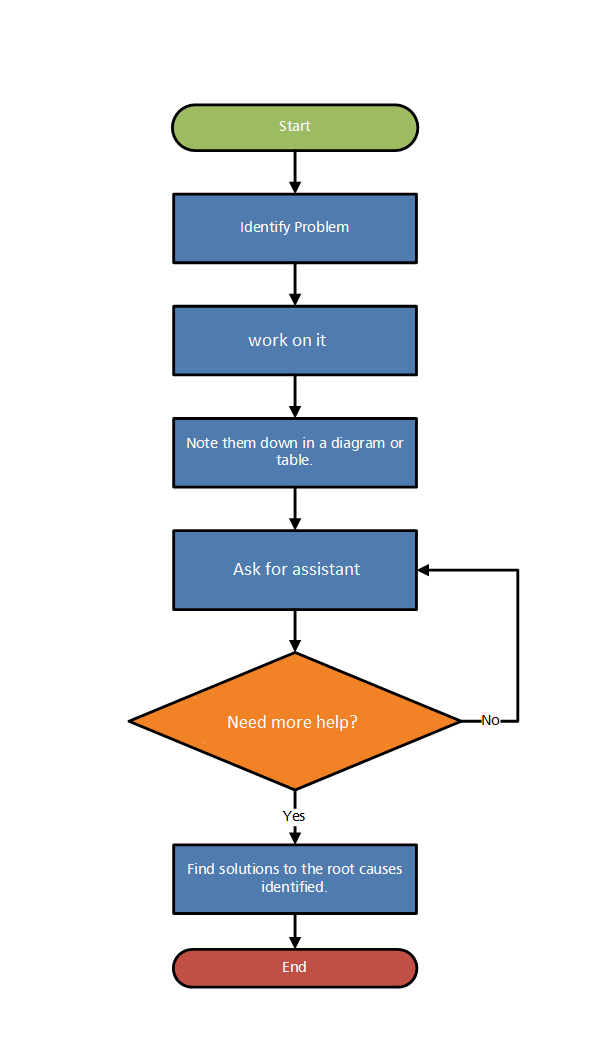arrow: (413, 561, 525, 728), (285, 787, 304, 845), (286, 483, 306, 534), (285, 258, 304, 309), (286, 147, 306, 195), (286, 603, 304, 653), (285, 910, 307, 949), (286, 372, 302, 420)
decision: (121, 650, 466, 791)
process: (167, 525, 423, 617), (167, 188, 423, 268), (167, 301, 426, 380), (167, 839, 421, 918), (167, 414, 421, 491)
terminator: (169, 99, 423, 156), (166, 945, 421, 993)
text: (183, 858, 407, 896), (182, 434, 409, 469), (225, 710, 359, 734), (226, 558, 363, 580), (239, 217, 348, 234), (244, 331, 329, 350), (274, 114, 313, 137), (277, 955, 313, 976), (277, 804, 310, 823), (475, 709, 502, 728)
